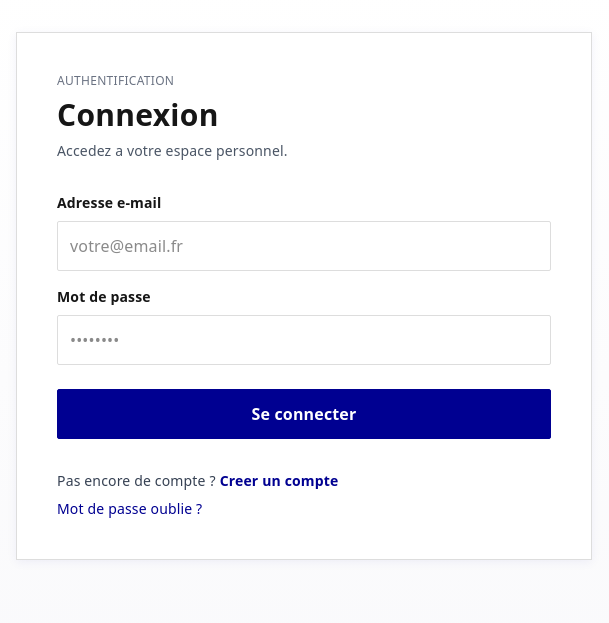
Test: Login page › shows fallback error message when backend message is unavailable
Type "user@example.com" into the field labelled "Adresse e-mail".
click(304, 246); type("user@example.com")  # box [57,221,551,271]
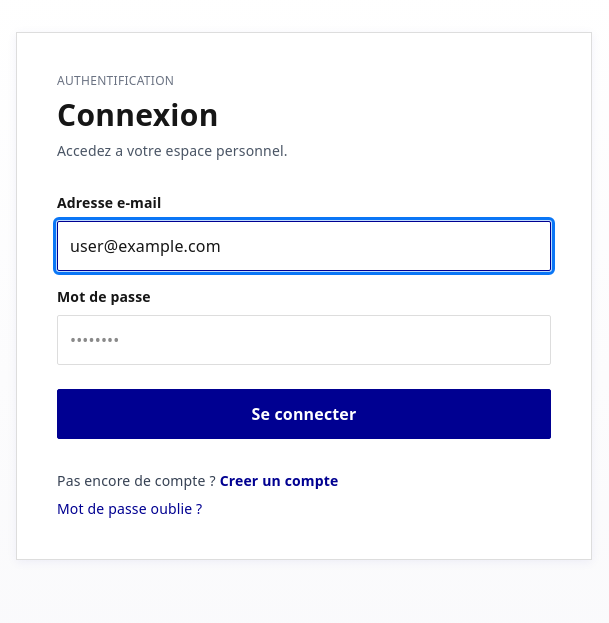
Type "password123" into the password field labelled "Mot de passe".
click(304, 340); type("password123")  # box [57,315,551,365]
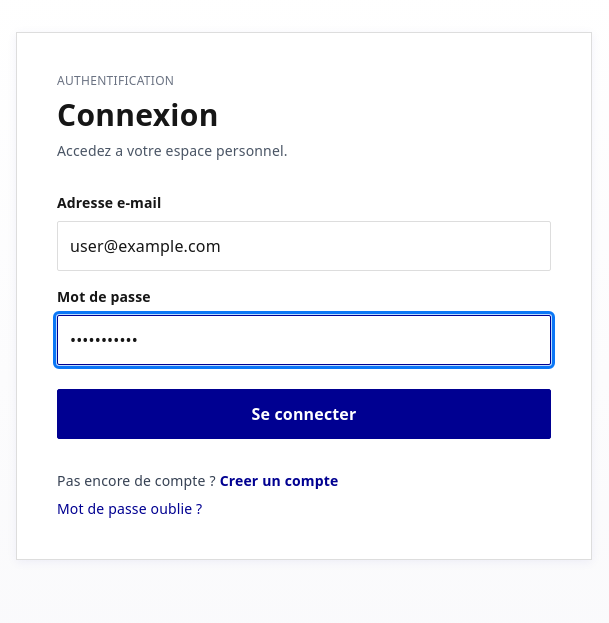
Click the button "Se connecter".
click(304, 414)  # box [57,389,551,439]
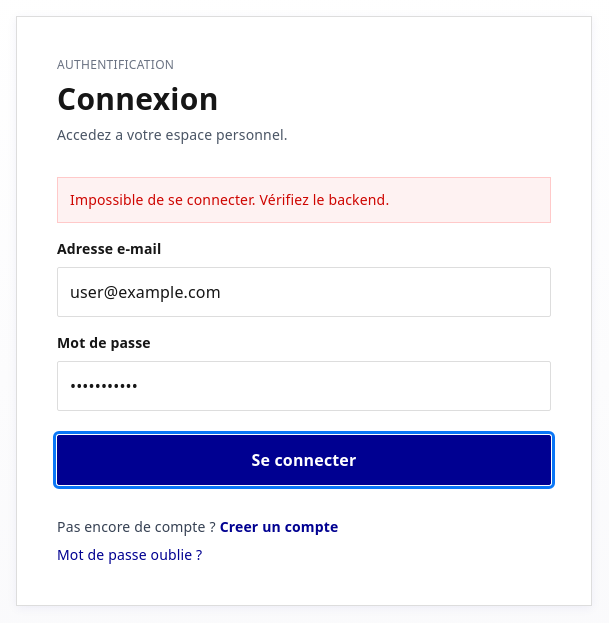
Expected: the text "Impossible de se connecter. Vérifiez le backend." is shown, [57,177,551,223]
